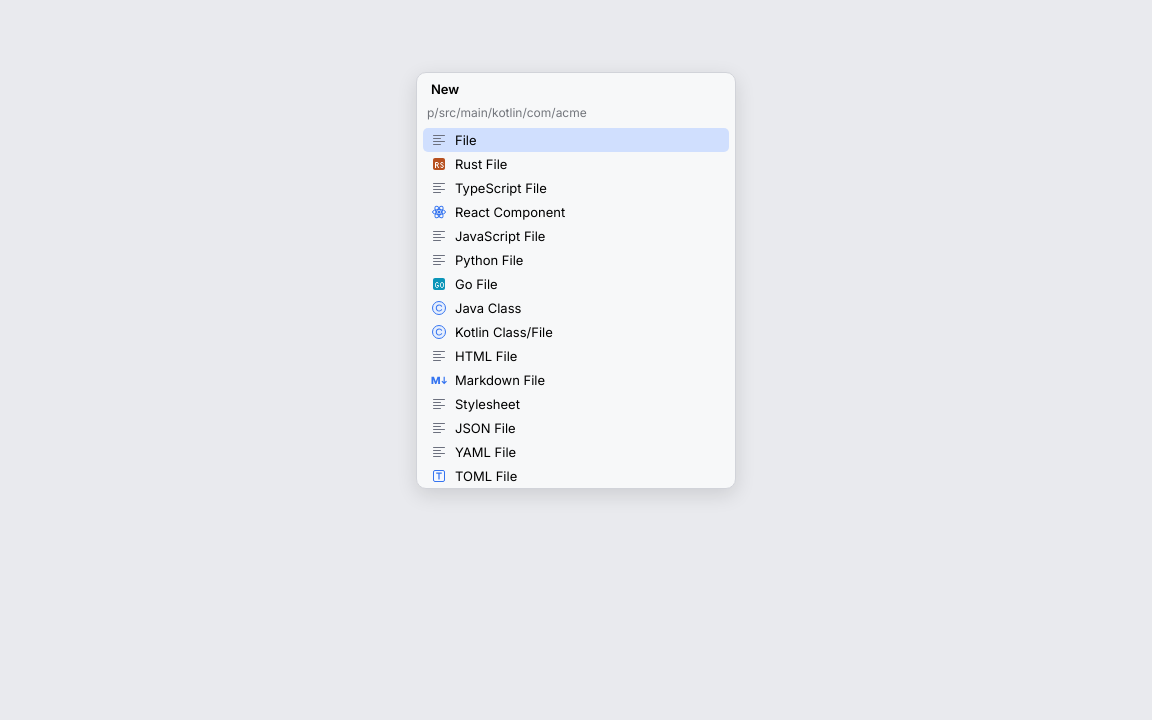
Scenario: dialogs › shows the template chooser then the name step
The image size is (1152, 720).
Click the option "Kotlin Class/File": (492, 332) [431, 324, 553, 340]
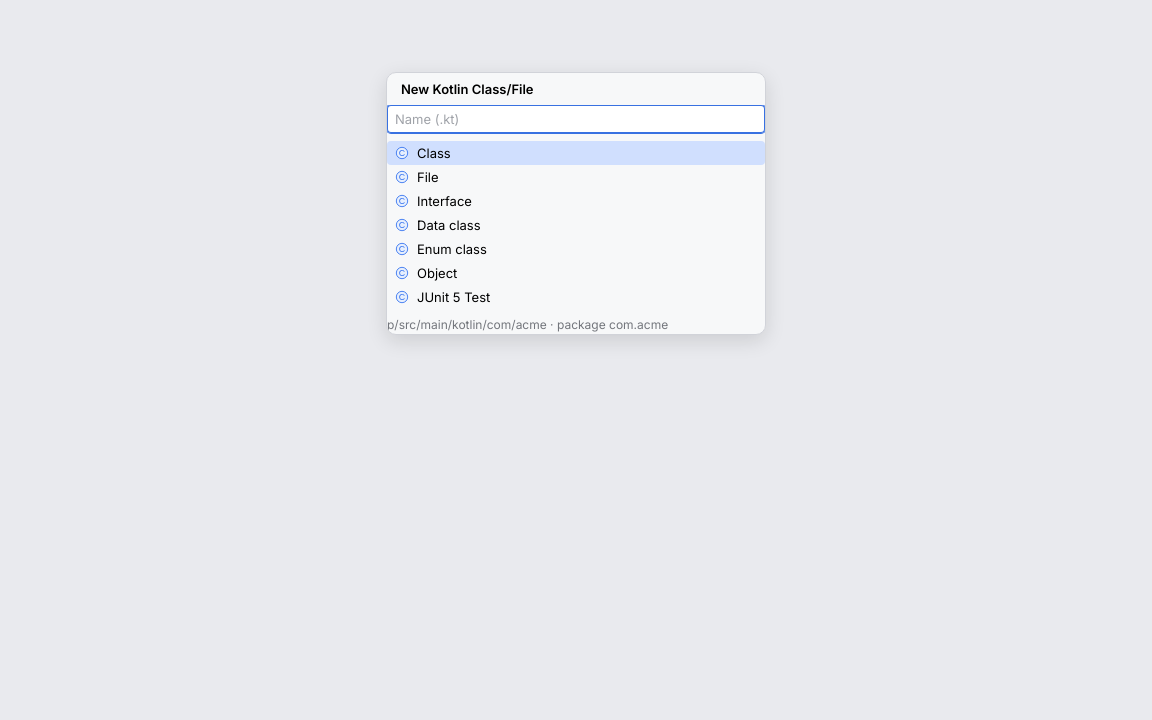
Result: the field labelled "Name" is shown at [387, 105, 765, 133]
Result: the option "Data class" is shown at [395, 217, 481, 233]
